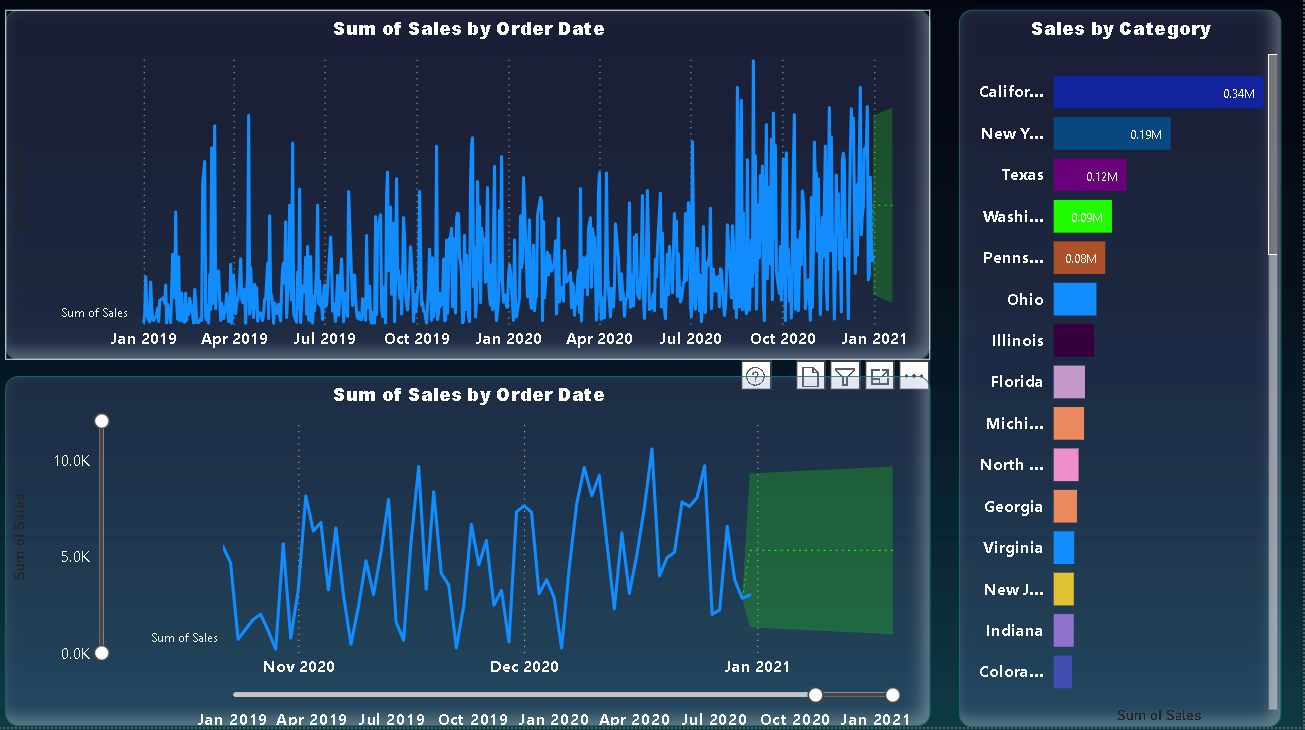

What the dashboard file says about the page in this screenshot:
{"tool":"powerbi","page":{"name":"19 Days Forecast ","canvas":[1280,720],"ordinal":1},"visuals":[{"type":"lineChart","fields":{"Y":["Sum(Sheet1.Sales)"],"Category":["Sheet1.Order Date"]},"box":[11,17.8,904.9,342.8],"z":0},{"type":"lineChart","fields":{"Y":["Sum(Sheet1.Sales)"],"Category":["Sheet1.Order Date"]},"box":[11,377,904.9,342.8],"z":1000},{"type":"clusteredBarChart","title":"Sales by Category","fields":{"Y":["Sum(Sheet1.Sales)"],"Category":["Sheet1.State"]},"box":[943.3,17.8,315.3,702],"z":2000}]}

Visuals, with their boxes in screenshot pixels (x1, y1, x2, y2), scaled from the page's 1280x720 canvas onto the 1305x730 screenshot:
lineChart - Sum(Sheet1.Sales) x Sheet1.Order Date: x1=11, y1=18, x2=934, y2=366
lineChart - Sum(Sheet1.Sales) x Sheet1.Order Date: x1=11, y1=382, x2=934, y2=729
"Sales by Category" clusteredBarChart: x1=962, y1=18, x2=1283, y2=729
